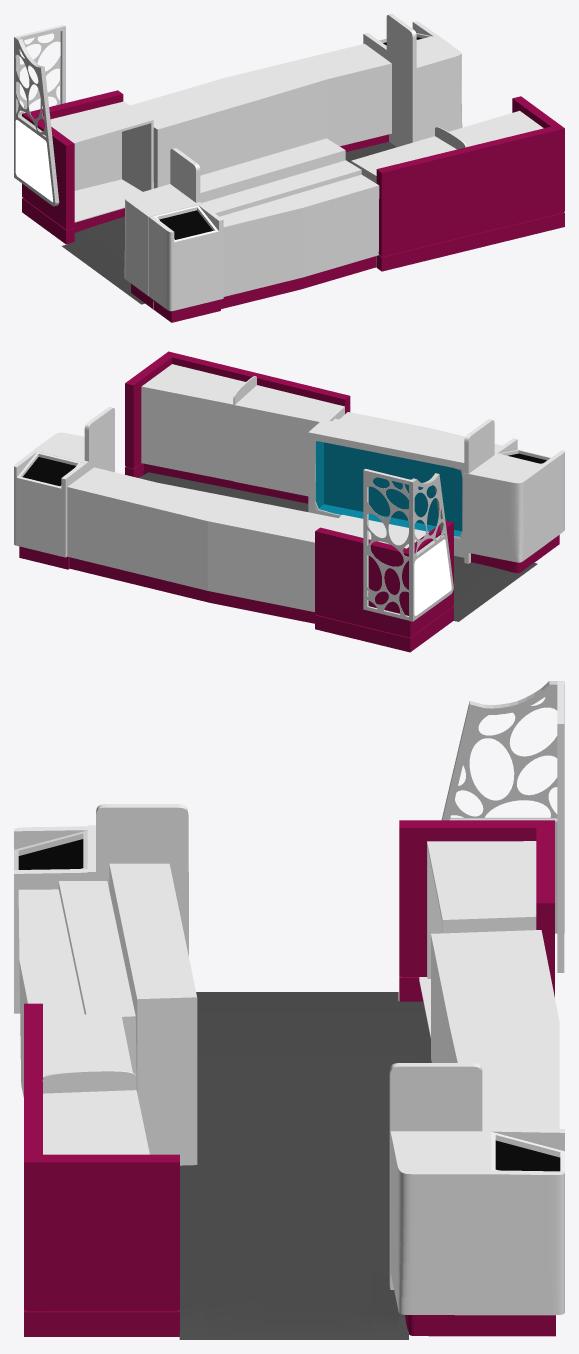
File: UnfinishedKiosk.glb
The picture shows the model from 3 angles, top to bottom: view 1: azimuth 30°, elevation 25°; view 2: azimuth 150°, elevation 25°; view 3: azimuth 270°, elevation 25°; orthographic projection. The views are drawn at different scales.
Visible parts, largest first — view 1: Premium Side, GaurdMetal-Value, Value Side, Till1, AdplayInteractive-Value, Samsung Endcap, GaurdMetal-Premium, Accessory Cabinet, Apple Endcap, TallDivider-Premium, Floor, PrivacyScreen1-End (+6 smaller); view 2: Premium Side, Accessory Cabinet, GaurdMetal-Premium, Till 2, Till 3, Apple Endcap, AdplayInteractive-Premium, GaurdMetal-Value, Floor, PrivacyScreen1-Side, PrivacyScreen1-End, AdplayInteractive-Value (+6 smaller); view 3: Floor, GaurdMetal-Value, Premium Side, Samsung Endcap, Accessory Cabinet, AdplayInteractive-Premium, Value Side, Till1, GaurdMetal-Premium, TallDivider-Premium, Till 3, TallDivider-Value (+4 smaller).
Part boxes in pixels (<box>): Premium Side: <box>130,43,391,188</box>; GaurdMetal-Value: <box>376,96,564,271</box>; Value Side: <box>202,160,379,308</box>; Till1: <box>50,101,153,232</box>; AdplayInteractive-Value: <box>149,204,223,322</box>; Samsung Endcap: <box>384,35,462,141</box>; GaurdMetal-Premium: <box>22,90,123,244</box>; Accessory Cabinet: <box>200,138,345,202</box>; Apple Endcap: <box>124,184,202,308</box>; TallDivider-Premium: <box>386,14,416,146</box>; Floor: <box>61,141,396,304</box>; PrivacyScreen1-End: <box>14,37,59,206</box>; Premium Side: <box>67,467,337,623</box>; Accessory Cabinet: <box>308,419,464,557</box>; GaurdMetal-Premium: <box>315,521,453,652</box>; Till 2: <box>141,364,245,489</box>; Till 3: <box>233,376,344,503</box>; Apple Endcap: <box>464,453,546,573</box>; AdplayInteractive-Premium: <box>14,450,86,569</box>; GaurdMetal-Value: <box>125,351,350,477</box>; Floor: <box>138,472,537,621</box>; PrivacyScreen1-Side: <box>363,469,413,620</box>; PrivacyScreen1-End: <box>409,473,453,621</box>; AdplayInteractive-Value: <box>494,438,564,556</box>; Floor: <box>179,992,431,1339</box>; GaurdMetal-Value: <box>24,1003,179,1336</box>; Premium Side: <box>431,930,559,1128</box>; Samsung Endcap: <box>390,1127,491,1336</box>; Accessory Cabinet: <box>109,863,197,1165</box>; AdplayInteractive-Premium: <box>491,1127,564,1336</box>; Value Side: <box>18,881,136,1097</box>; Till1: <box>419,841,536,1038</box>; GaurdMetal-Premium: <box>399,820,554,1001</box>; TallDivider-Premium: <box>389,1063,482,1289</box>; Till 3: <box>42,1013,136,1093</box>; TallDivider-Value: <box>96,804,188,954</box>.
Size of the model in its own units: 4.58 by 1.91 by 3.06.
